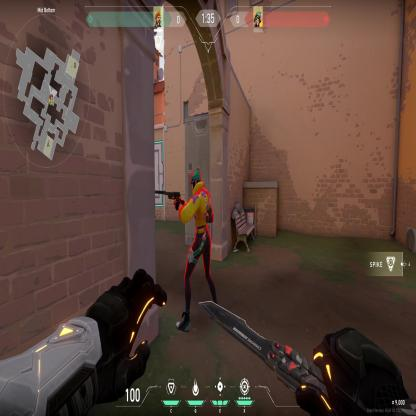enemy: (172, 163, 220, 301)
